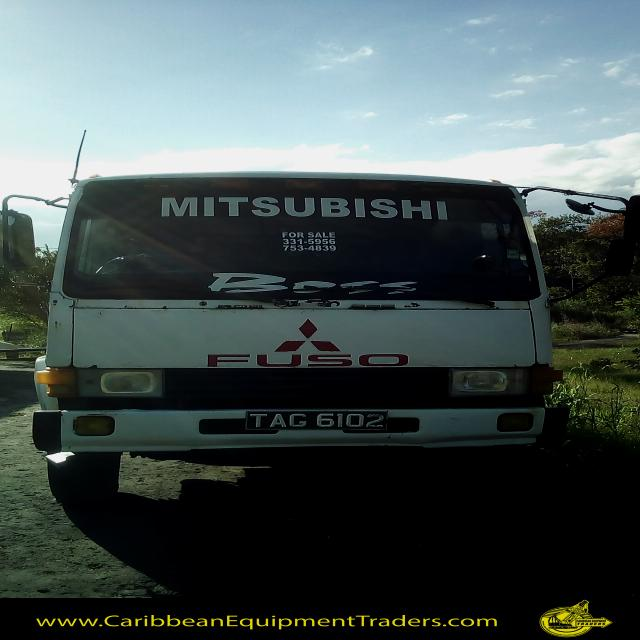truck: (1, 179, 579, 503)
